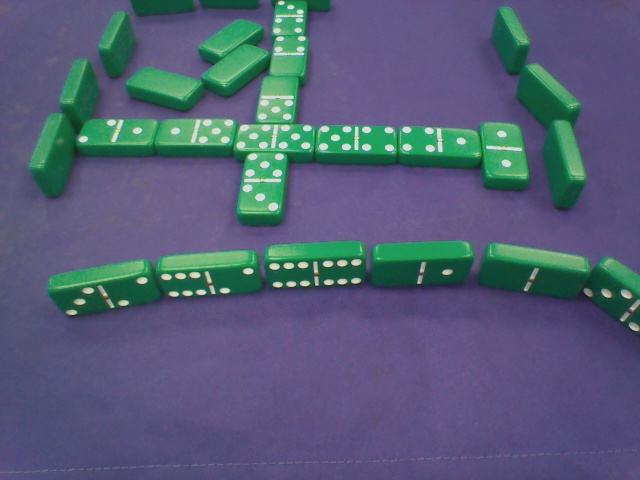A: (125, 61, 208, 110), (192, 15, 269, 60), (205, 42, 272, 92)
B: (395, 122, 479, 176), (478, 118, 536, 193), (79, 111, 158, 158), (236, 121, 317, 166), (318, 123, 400, 166), (239, 148, 286, 222), (158, 116, 233, 160), (257, 73, 305, 123), (266, 32, 313, 77), (270, 1, 313, 34)
C: (30, 111, 76, 198), (58, 54, 101, 120), (92, 9, 134, 71)
D: (511, 61, 596, 134), (535, 118, 589, 214), (477, 4, 537, 76)
E: (480, 234, 588, 305), (39, 266, 161, 320), (368, 235, 473, 294), (158, 249, 266, 302), (266, 244, 365, 291), (588, 252, 640, 336)
F: (131, 1, 198, 18), (201, 1, 262, 15)
